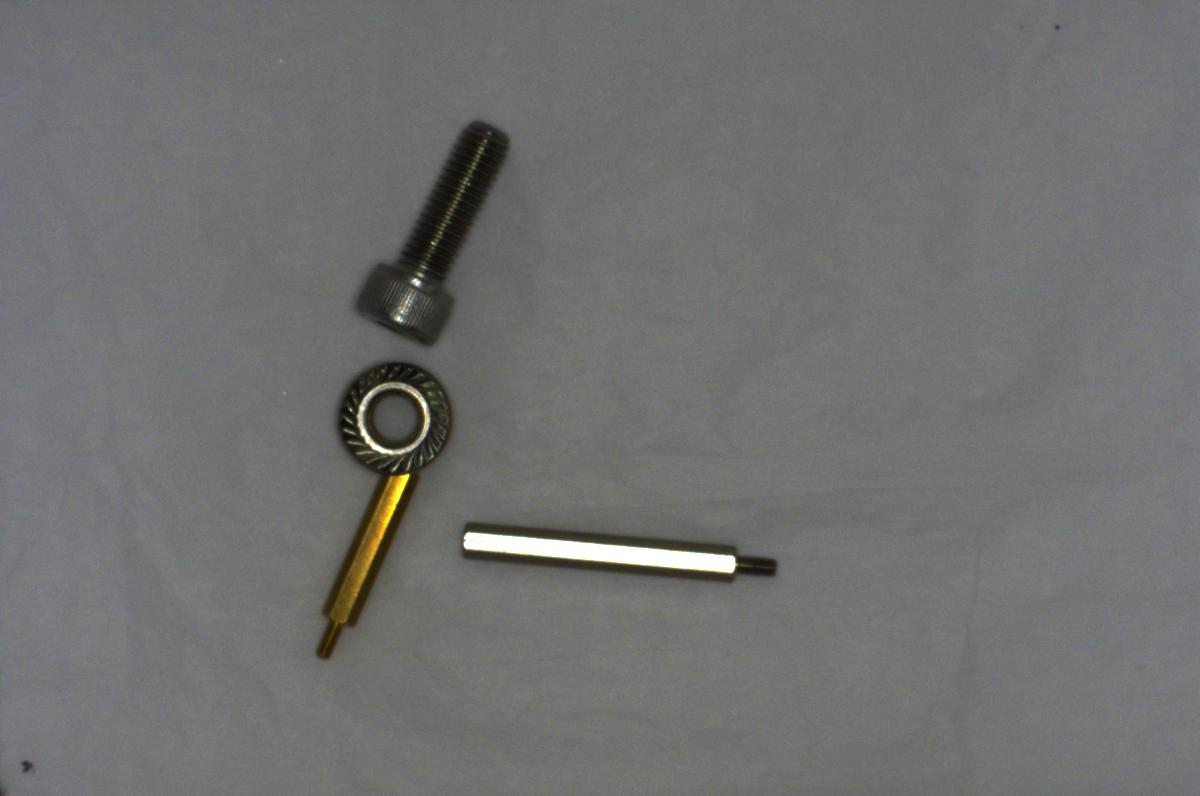Flange nut: (330, 355, 464, 479)
Hexagon pillar: (305, 462, 421, 663)
Hexagon screw: (348, 114, 507, 349)
Hexagonal steel column: (455, 510, 782, 596)
